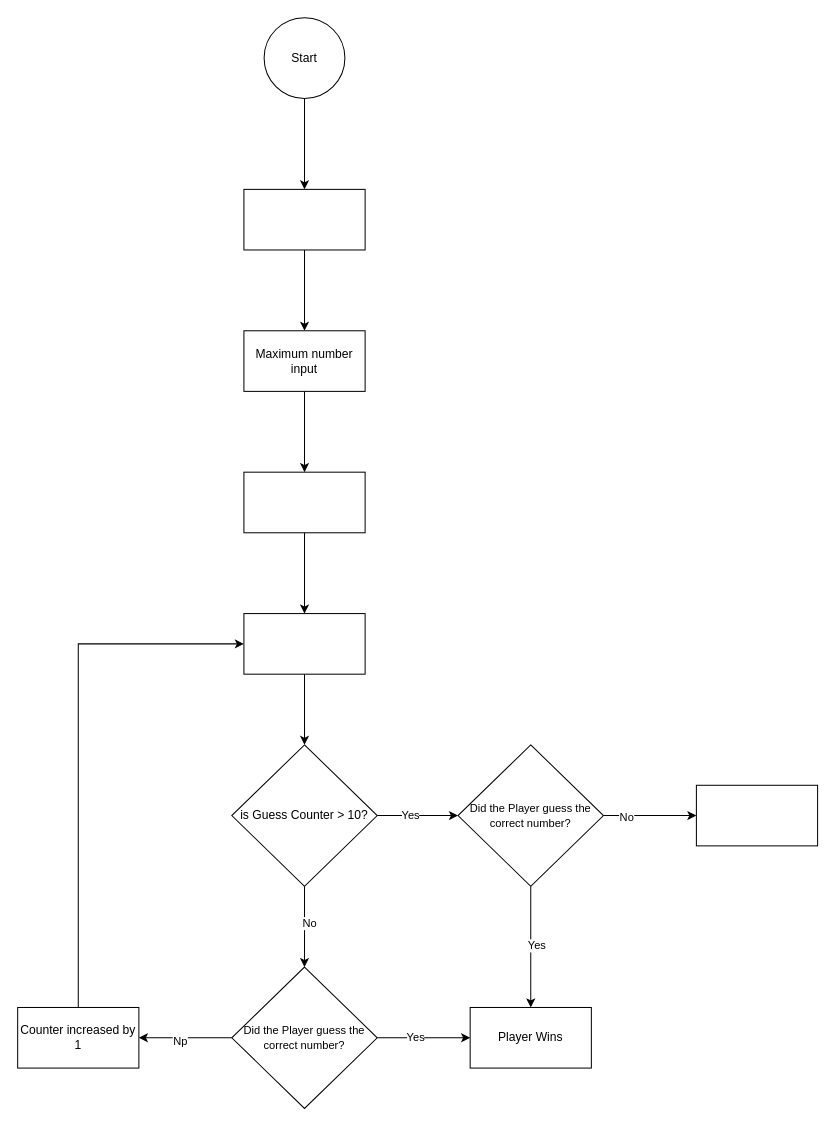
Image size: 835x1126. Some labels were removed from this diagram. The shapes that lost their labels are listed below. From the top down, each one's centre as x and y in pixels, then its label:
At (304,219): "Minimum number input".
At (304,502): "Computer selects a random Number".
At (304,643): "Players inputs number guess".
At (756,815): "Player Loses".
